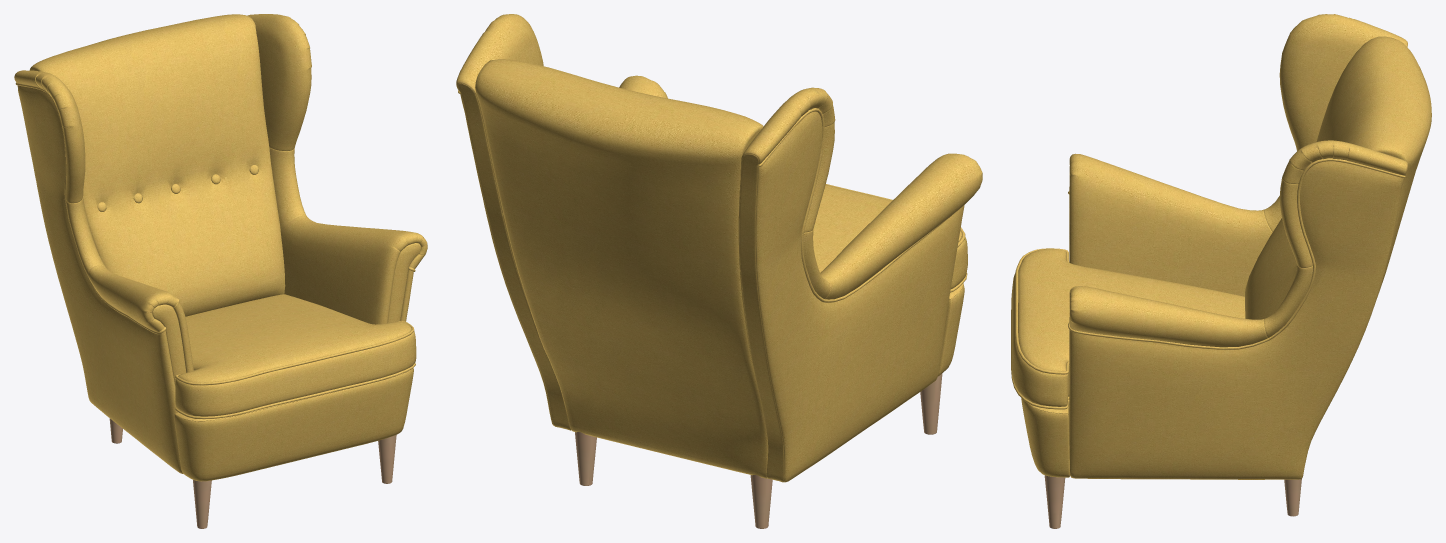
Rendered from 03 - STRANDMON - 扶手椅，Tibbleby 黃色 IKEA 線上購物.glb.
The picture shows the model from 3 angles, left to right: view 1: azimuth 30°, elevation 25°; view 2: azimuth 150°, elevation 25°; view 3: azimuth 270°, elevation 25°; orthographic projection. The views are drawn at different scales.
Parts seen in each view (by area): view 1: 011, 005; view 2: 011, 005; view 3: 011, 005.
Boxes of the visible parts, bbox=[...] form: 011: bbox=[14, 14, 427, 481]; 005: bbox=[109, 418, 396, 528]; 011: bbox=[456, 14, 982, 482]; 005: bbox=[575, 373, 942, 528]; 011: bbox=[1011, 14, 1431, 479]; 005: bbox=[1044, 475, 1301, 528].
Size of the model in its own units: 0.82 by 1.01 by 0.9646.
2 materials, 2 textured.
